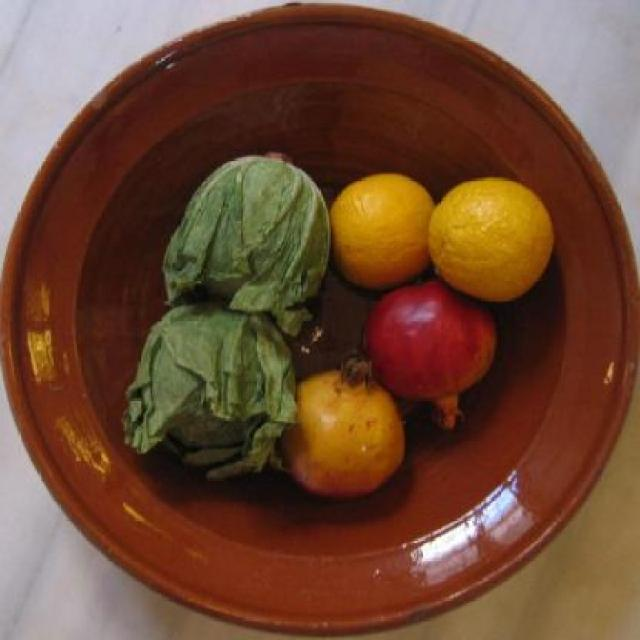Apple: (360, 284, 499, 403)
Orange: (428, 175, 556, 303), (284, 366, 408, 497), (330, 174, 436, 288)
